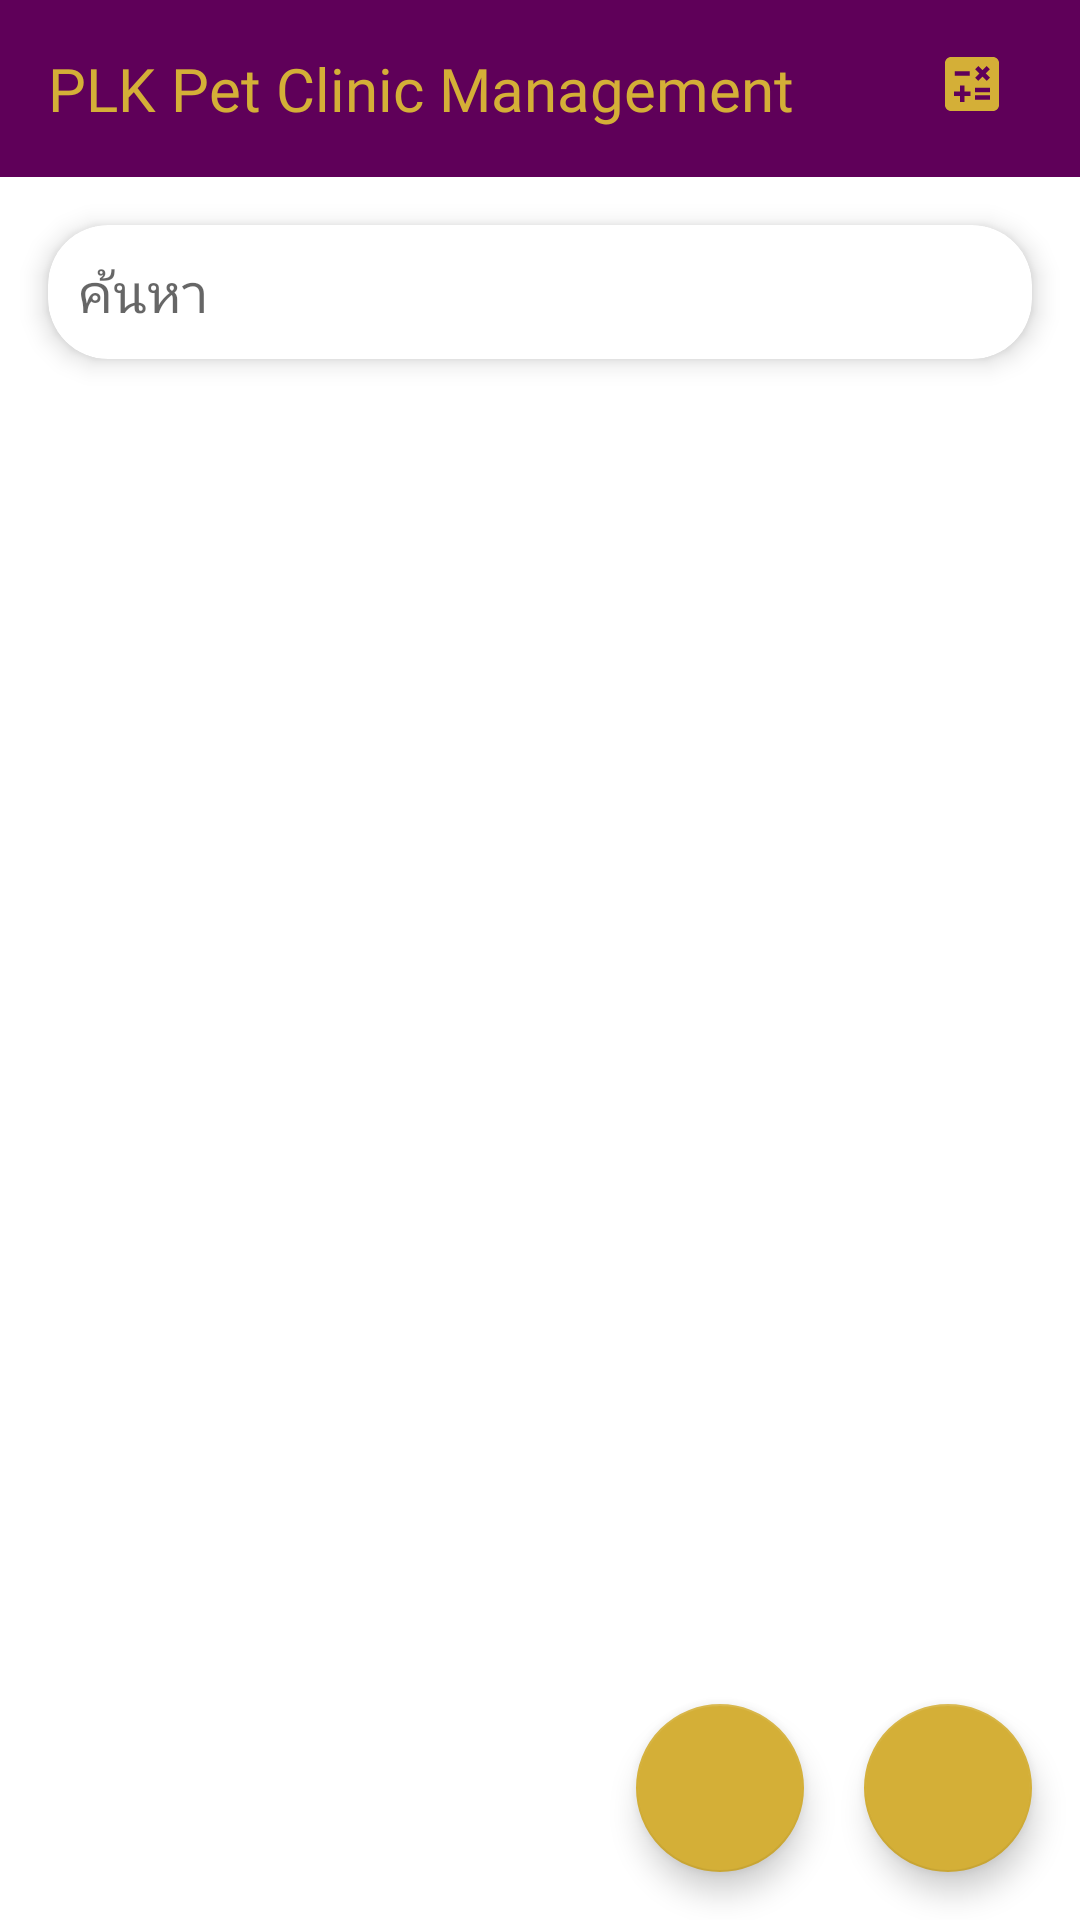

Named icons in this screenshot (1080*1920) and their bounding boxes, (x1, y1, x2, y2):
calculate: (945, 57, 999, 111)
